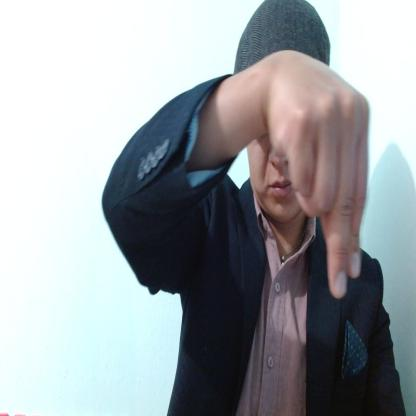N: (264, 49, 371, 301)
